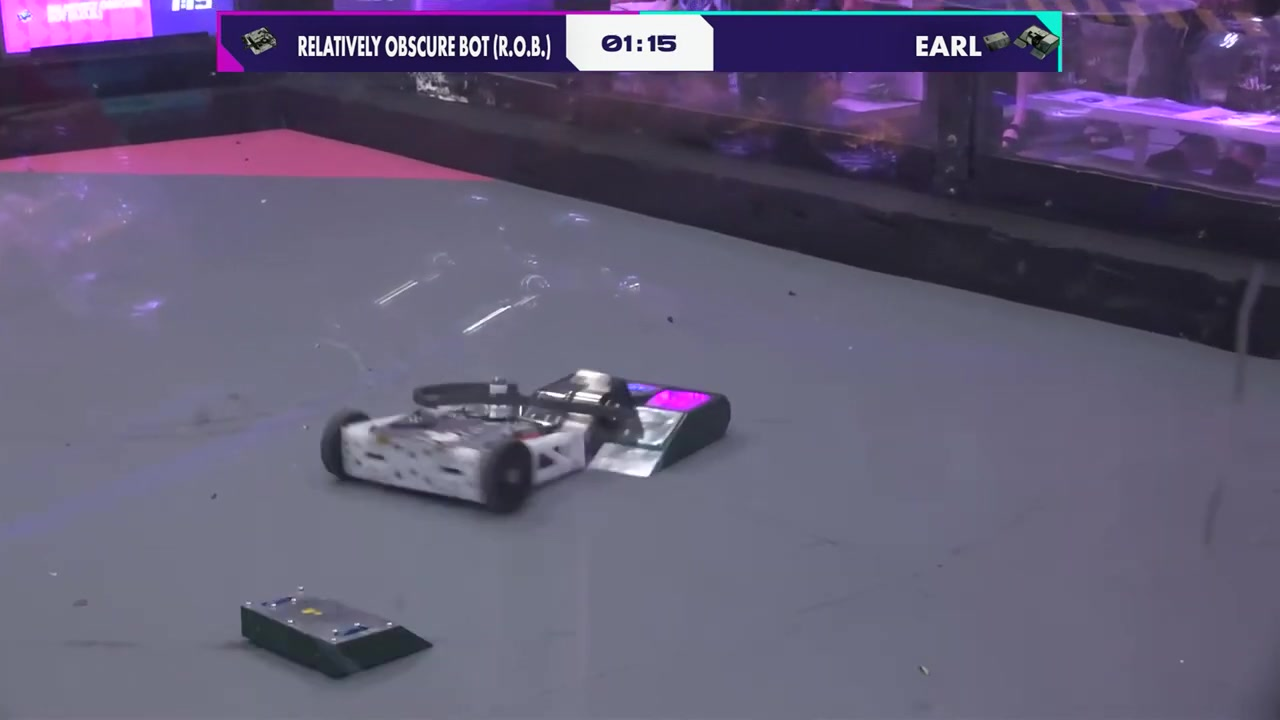combatbot: (325, 379, 591, 513), (536, 371, 731, 480)
minibot: (232, 589, 431, 681)
